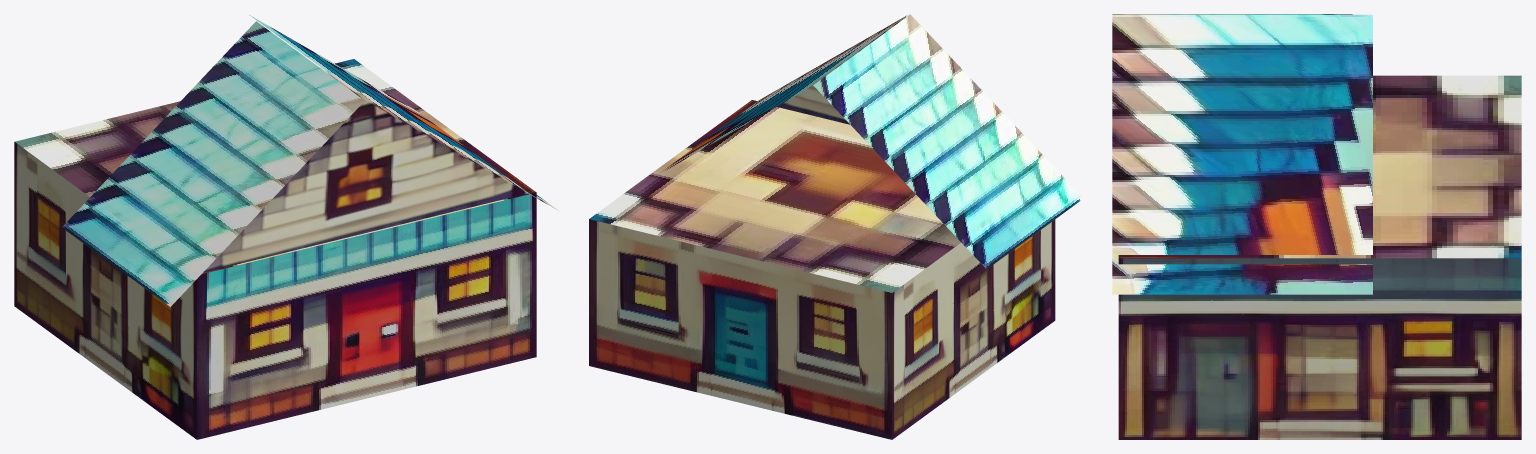
The model's file is casaspixel1.glb.
The picture shows the model from 3 angles, left to right: view 1: azimuth 30°, elevation 25°; view 2: azimuth 150°, elevation 25°; view 3: azimuth 270°, elevation 25°; orthographic projection. The views are drawn at different scales.
Visible parts, largest first — view 1: Cube, Plane.001, Plane, Plane.002; view 2: Cube, Plane.001, Plane.002, Plane; view 3: Cube, Plane.002.
Part boxes in pixels (x1,y1,x2,y2): Cube: (14, 59, 536, 439); Plane.001: (62, 21, 364, 306); Plane: (203, 97, 527, 272); Plane.002: (249, 15, 559, 211); Cube: (589, 100, 1055, 439); Plane.001: (813, 14, 1083, 269); Plane.002: (656, 15, 907, 175); Plane: (757, 16, 905, 124); Cube: (1118, 75, 1521, 439); Plane.002: (1112, 14, 1372, 294).
Bounding box in the file's own units: 9.67 × 7.14 × 7.96.
Materials: 4 (4 with a texture image).
